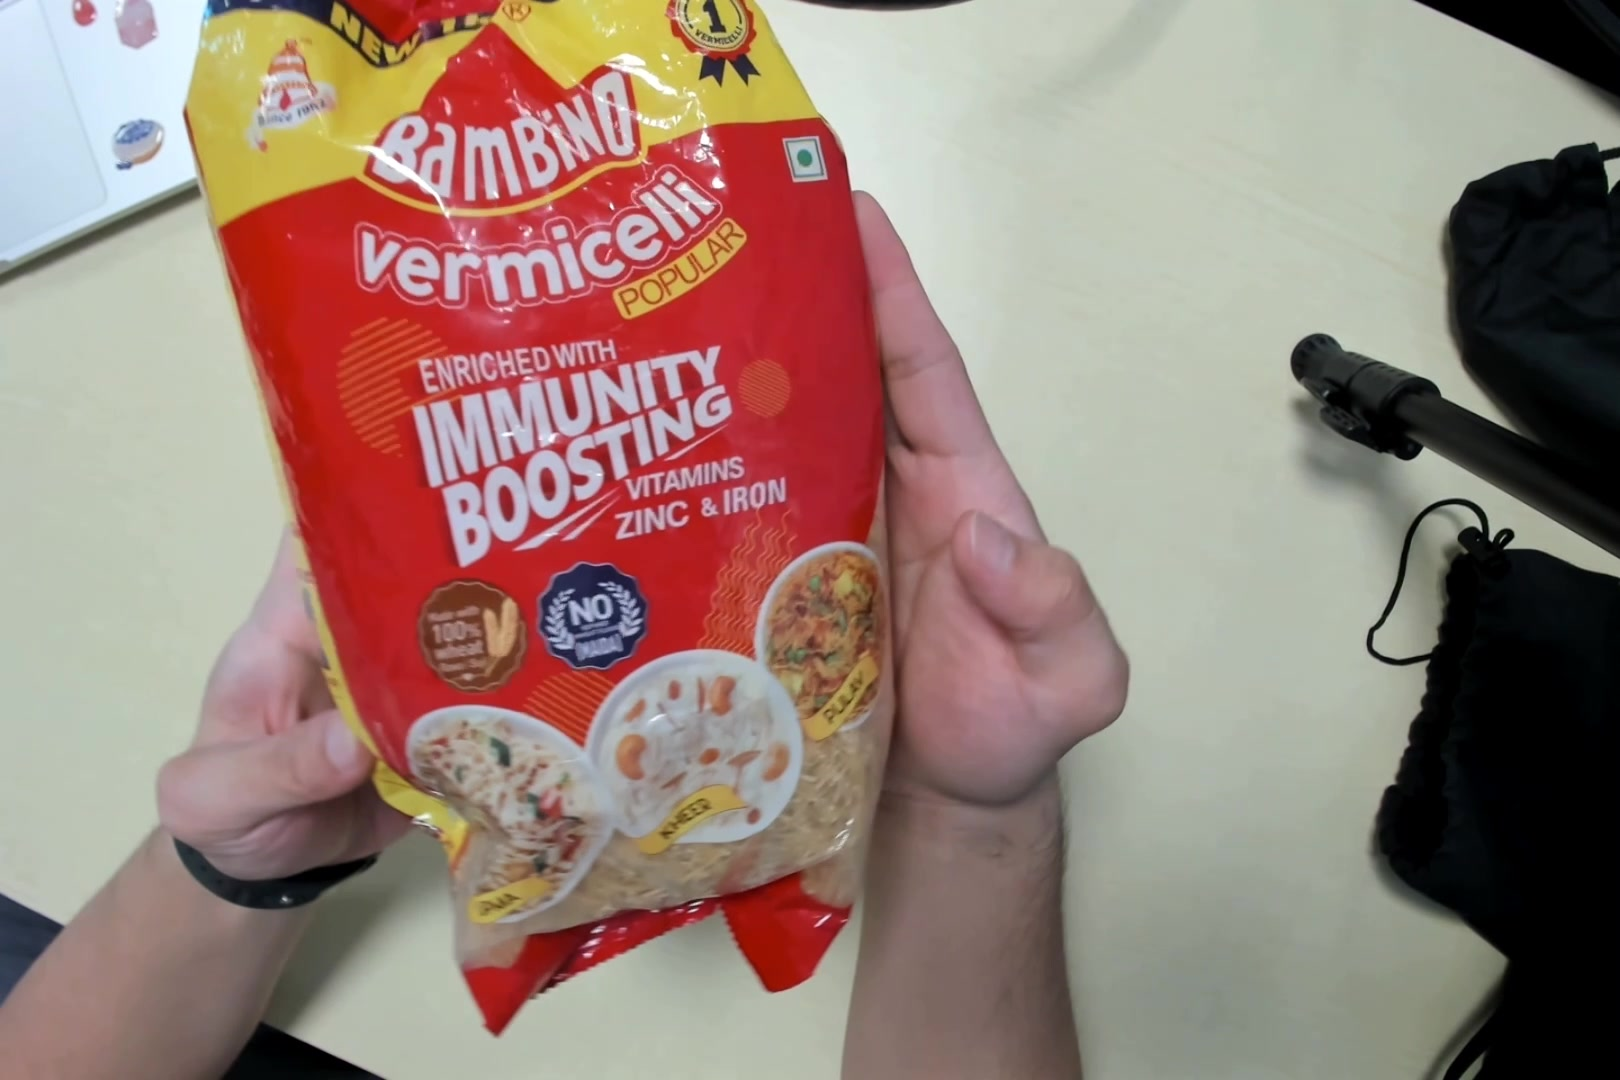OtherNoodles_300-399g_Halal_NonHealthy: (205, 2, 896, 994)
